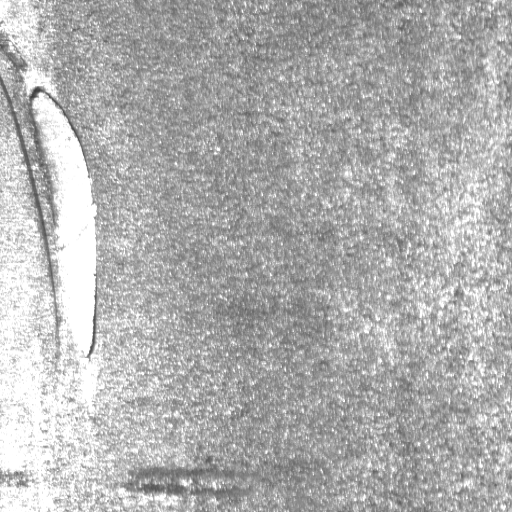qiaopi: (22, 85, 100, 358)
